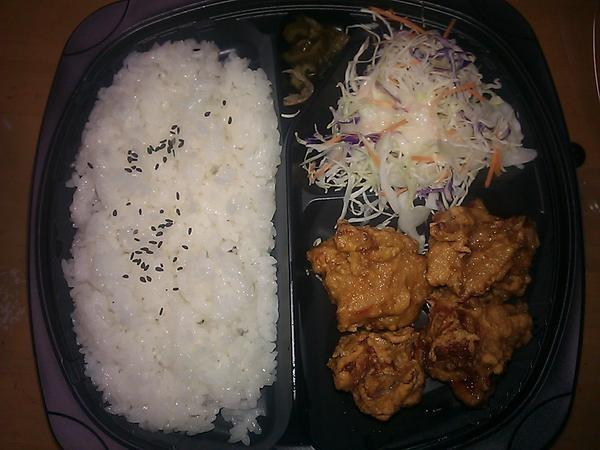rice: (63, 39, 279, 442)
